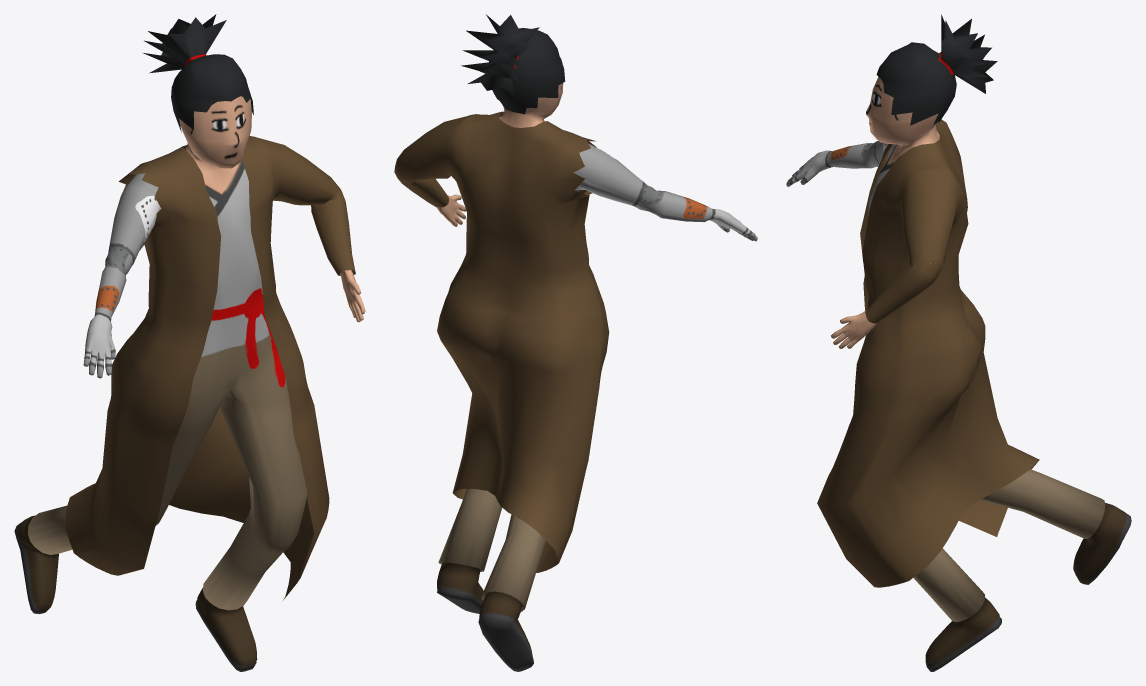
File: hero pose three.obj
3 renders of one model, left to right at view 1: azimuth 30°, elevation 25°; view 2: azimuth 150°, elevation 25°; view 3: azimuth 270°, elevation 25°, orthographic. The views are drawn at different scales.
Visible parts, largest first — view 1: jacket_Cube.003, modellll_Cube.002, hair_Cube.004; view 2: jacket_Cube.003, modellll_Cube.002, hair_Cube.004; view 3: jacket_Cube.003, modellll_Cube.002, hair_Cube.004.
Boxes of the visible parts, <box> form: jacket_Cube.003: <box>65,136,355,600</box>; modellll_Cube.002: <box>14,96,365,671</box>; hair_Cube.004: <box>142,14,253,132</box>; jacket_Cube.003: <box>394,111,609,572</box>; modellll_Cube.002: <box>437,83,757,671</box>; hair_Cube.004: <box>461,14,565,114</box>; jacket_Cube.003: <box>817,119,1039,587</box>; modellll_Cube.002: <box>786,77,1131,671</box>; hair_Cube.004: <box>876,14,997,125</box>.
Bounding box in the file's own units: 1.57 × 3.06 × 1.52.
